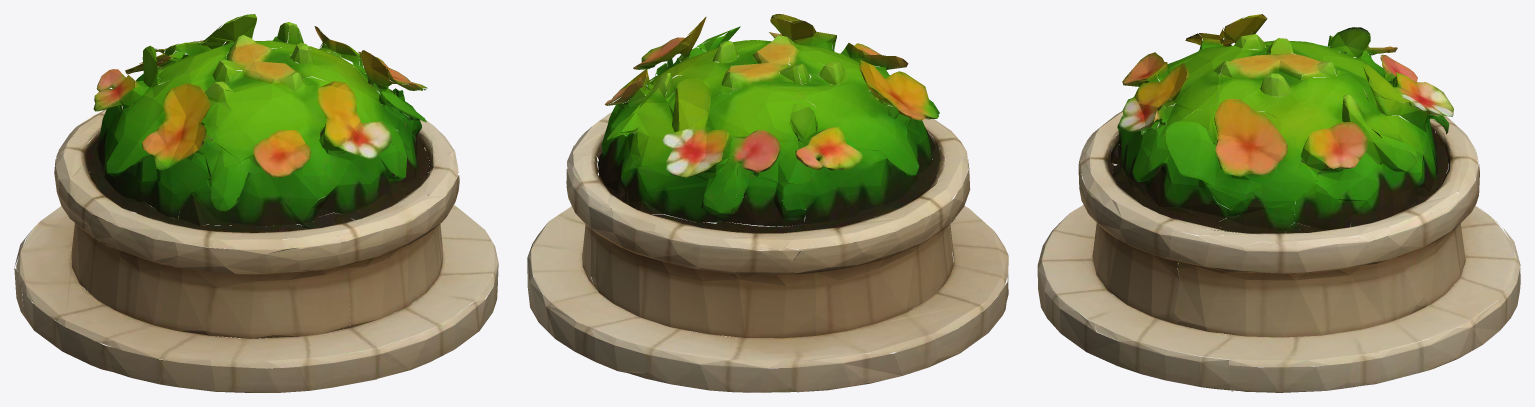
File: round_flower_bed.glb
The picture shows the model from 3 angles, left to right: view 1: azimuth 30°, elevation 25°; view 2: azimuth 150°, elevation 25°; view 3: azimuth 270°, elevation 25°; orthographic projection.
Visible parts, largest first — view 1: geometry_0; view 2: geometry_0; view 3: geometry_0.
Part boxes in pixels (bbox=[...]): geometry_0: bbox=[14, 14, 498, 392]; geometry_0: bbox=[527, 14, 1008, 392]; geometry_0: bbox=[1037, 14, 1520, 392].
Size of the model in its own units: 0.9988 by 0.5451 by 0.9992.
Materials: 1 (1 with a texture image).
